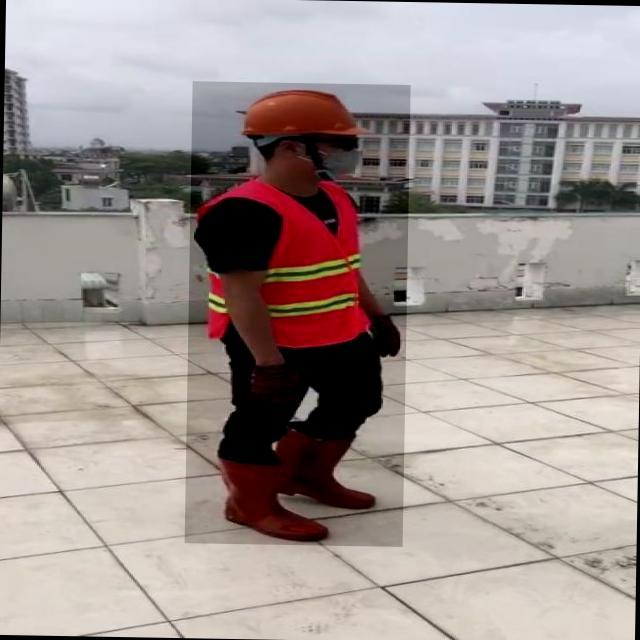Helmet: (237, 86, 375, 136)
Human: (185, 81, 411, 547)
Safety Boot: (213, 451, 325, 541), (273, 424, 377, 506)
Safety Vest: (197, 180, 371, 348)
